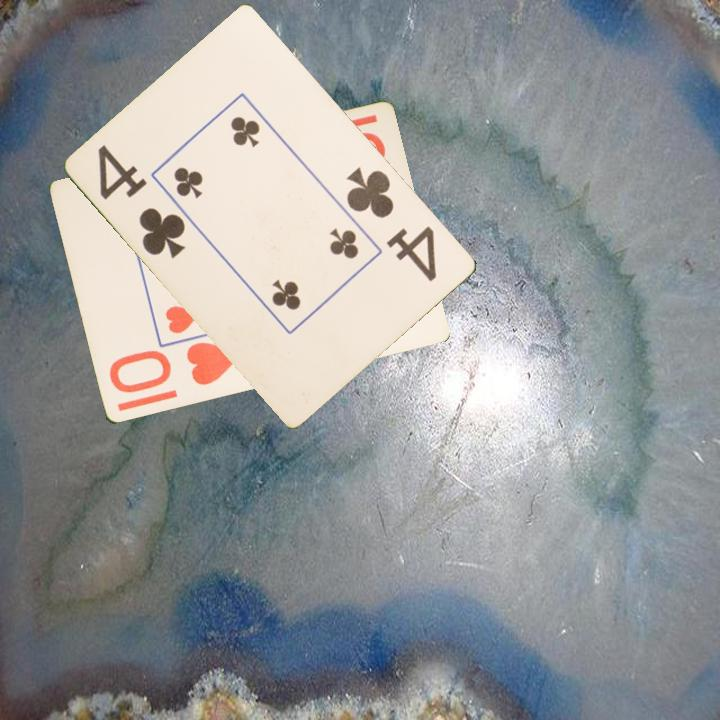10h: (105, 339, 246, 397)
4c: (343, 163, 441, 285), (94, 141, 189, 263)
